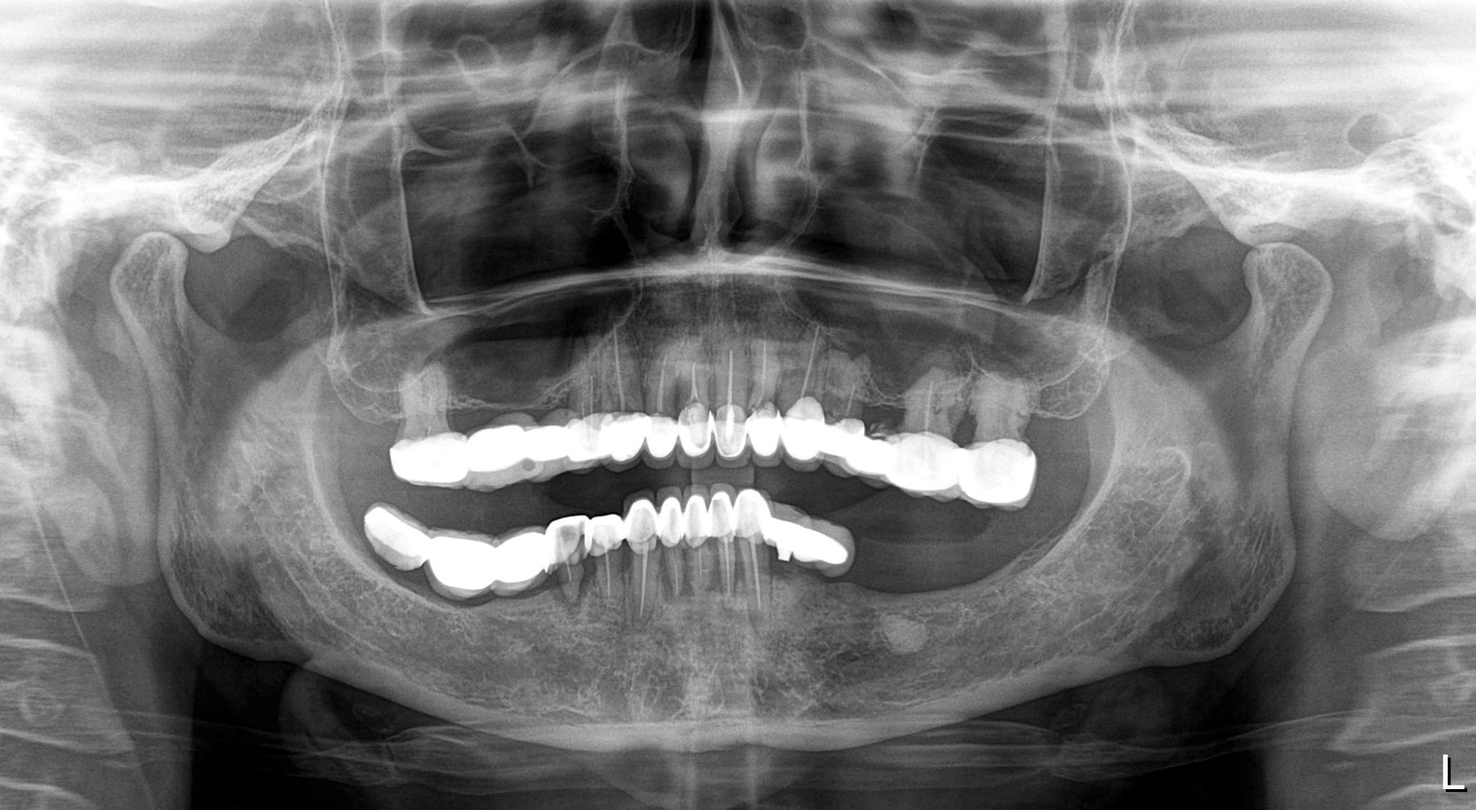Endodontically Treated Tooth: (364, 358, 1040, 489), (357, 508, 848, 636)
Missing Tooth: (863, 526, 1082, 622)
